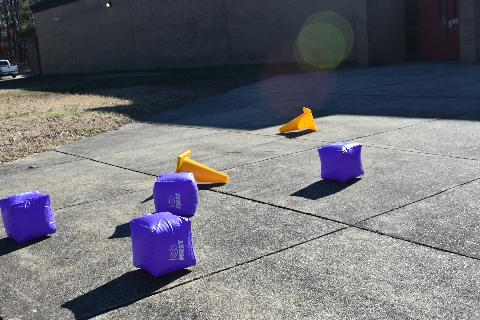cone: (176, 150, 230, 183), (280, 107, 316, 133)
cube: (131, 212, 196, 278), (0, 190, 56, 243), (154, 172, 198, 215), (318, 142, 364, 182)
